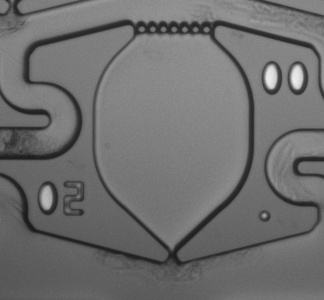AptNum: (255, 58, 317, 103)
Marker: (249, 202, 279, 229)
StNum: (31, 175, 93, 225)
